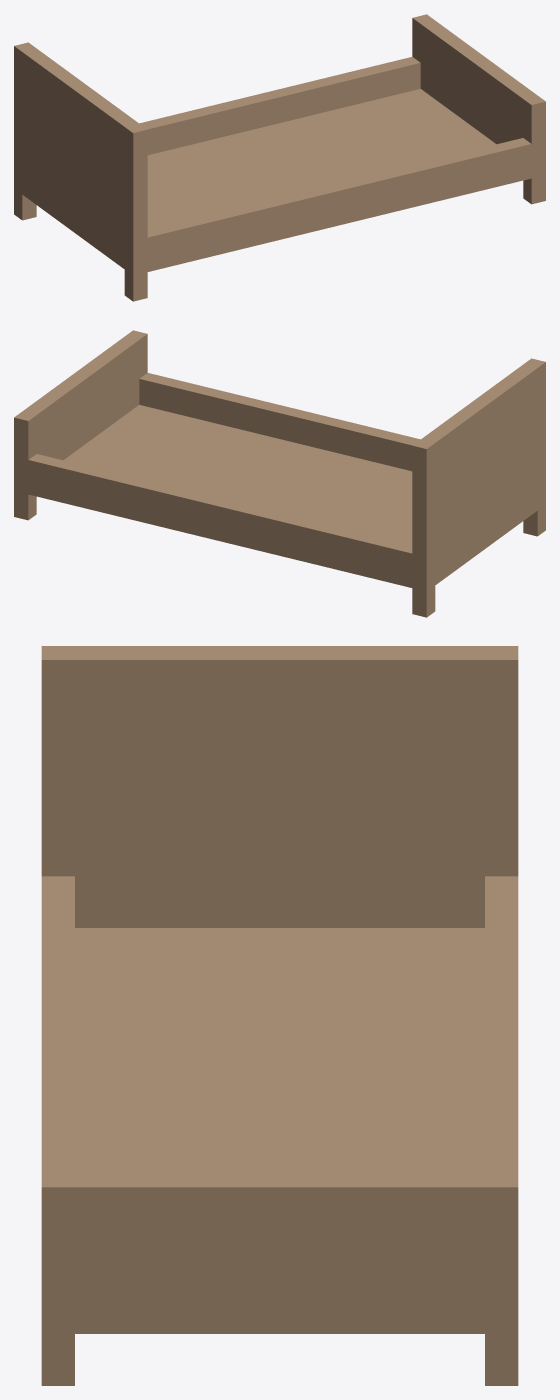
Rendered from bedframe.glb.
3 views of the same model, one above another, from view 1: azimuth 30°, elevation 25°; view 2: azimuth 150°, elevation 25°; view 3: azimuth 270°, elevation 25° (orthographic). The views are drawn at different scales.
Parts seen in each view (by area): view 1: bedframe; view 2: bedframe; view 3: bedframe.
Part boxes in pixels (x1,y1,x2,y2): bedframe: [14, 14, 545, 301]; bedframe: [14, 330, 545, 617]; bedframe: [41, 646, 518, 1385].
Size of the model in its own units: 2 by 0.78 by 1.
